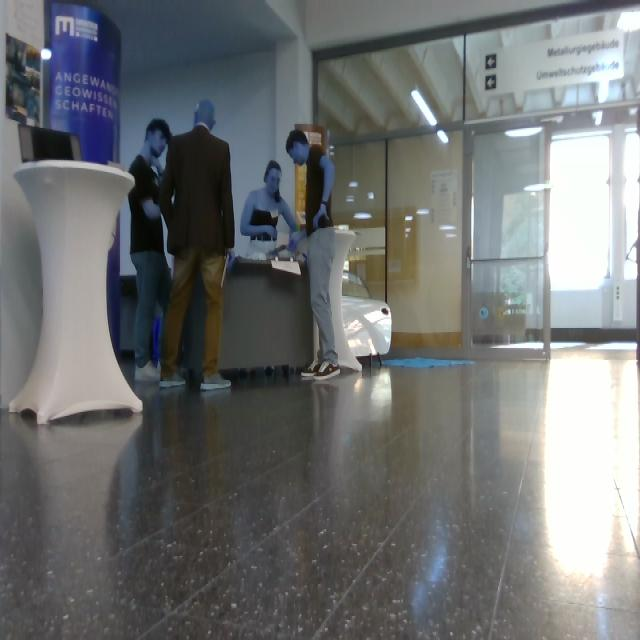desk: (221, 262, 312, 369), (181, 296, 201, 369), (121, 277, 135, 353)
door: (314, 1, 640, 361)
light bulb: (411, 89, 436, 126), (41, 48, 52, 61), (439, 130, 448, 144)
person: (161, 101, 235, 390), (287, 129, 340, 378), (129, 120, 171, 382), (242, 161, 297, 258)
pillar: (1, 1, 44, 406)
table: (10, 161, 142, 424), (330, 228, 361, 372)
tiled floor: (1, 346, 640, 640)
